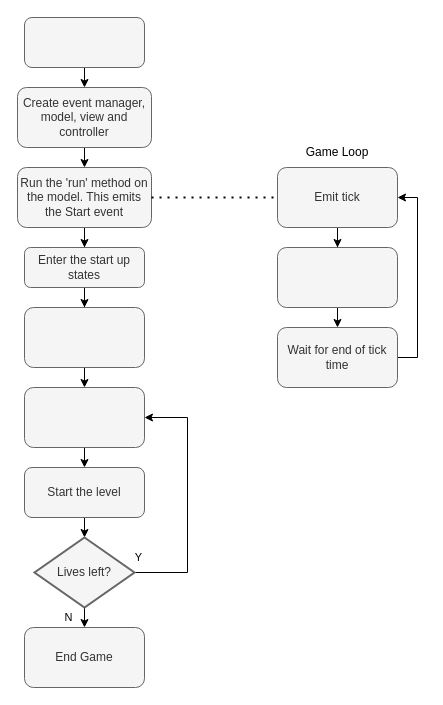
Image size: 443x705. Some labels were removed from this diagram. The centre of each missing label's shape, as x and y in pixels:
"Enter the menu state" belongs at (84,337).
"Perform process for the tick (based on current state)" belongs at (337,277).
"Run Game" belongs at (84,42).
"Start the level intro" belongs at (84,417).
